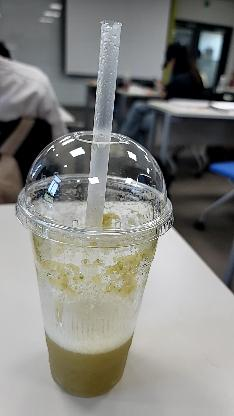Plastic Cup: (15, 129, 175, 399), (15, 130, 177, 252)
